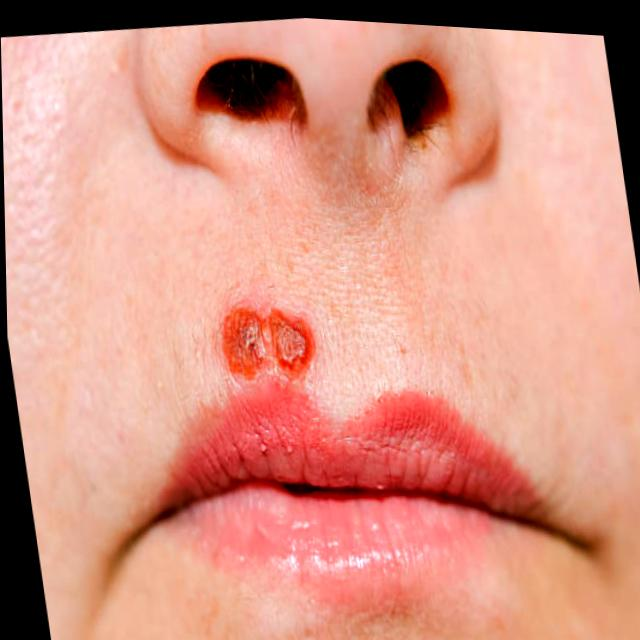ulcer: (223, 307, 312, 380)
